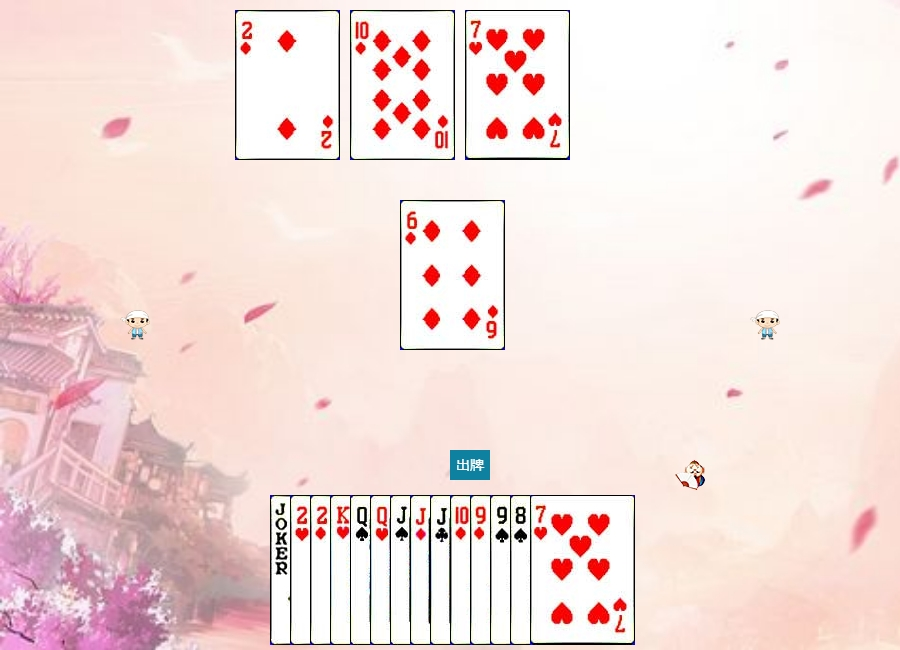10~1: (350, 10, 455, 160), (450, 495, 555, 645)
11~1: (410, 495, 515, 645)
11~2: (430, 495, 535, 645)
11~4: (390, 495, 495, 645)
12~3: (370, 495, 475, 645)
12~4: (350, 495, 455, 645)
13~3: (330, 495, 435, 645)
15~1: (235, 10, 340, 160), (310, 495, 415, 645)
15~3: (290, 495, 395, 645)
17~3: (270, 495, 375, 645)
6~1: (400, 200, 505, 350)
7~3: (465, 10, 570, 160), (530, 495, 635, 645)
8~4: (510, 495, 615, 645)
9~1: (470, 495, 575, 645)
9~4: (490, 495, 595, 645)
